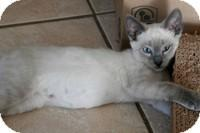siamese: (124, 9, 185, 75)
